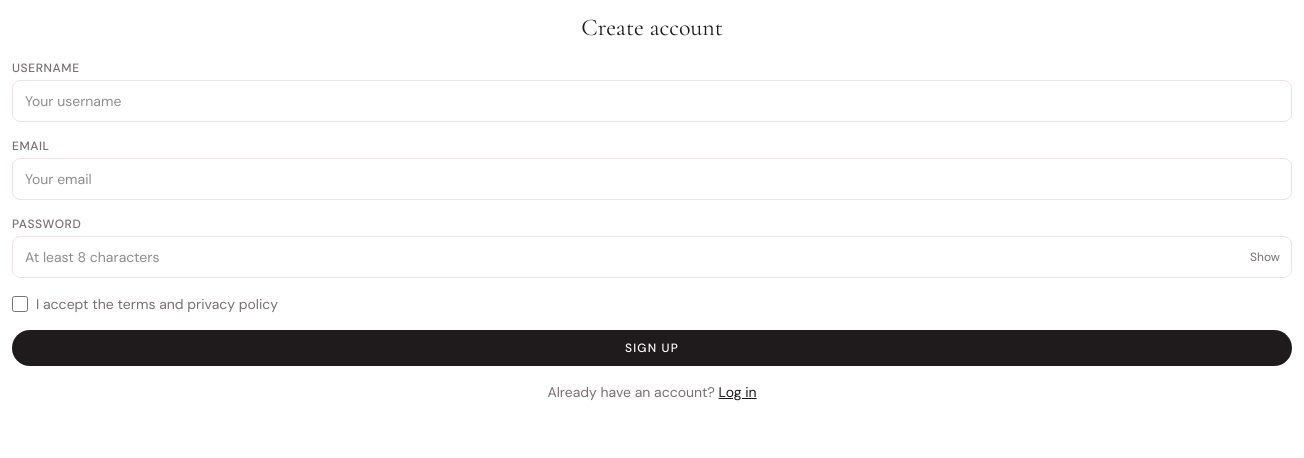
it: RegisterView › shows duplicate-field errors from a 409
In the field with id "username": (652, 101) [12, 80, 1292, 122], type "mina"
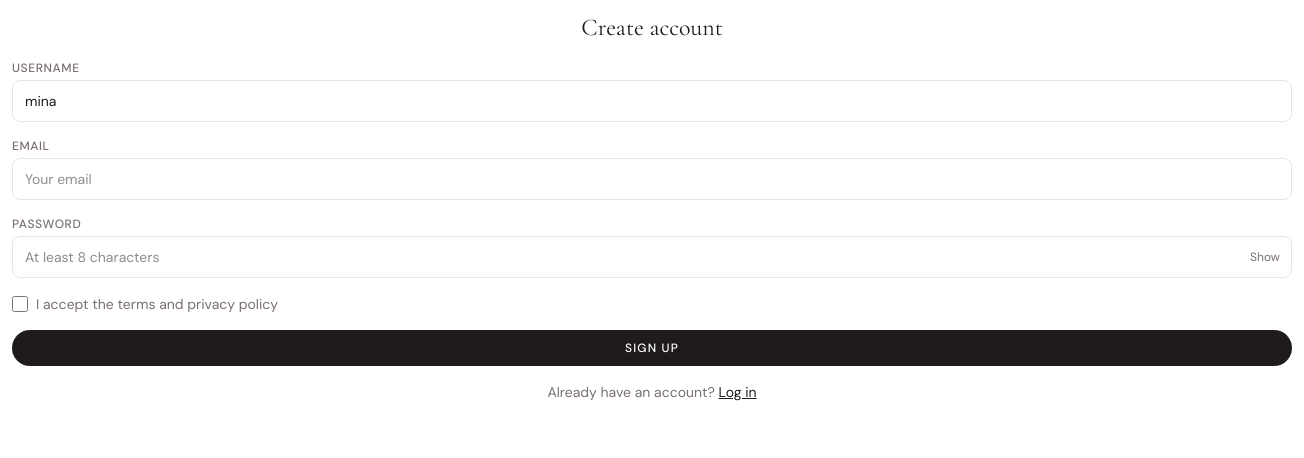
In the field with id "email": (652, 179) [12, 158, 1292, 200], type "mina@example.com"
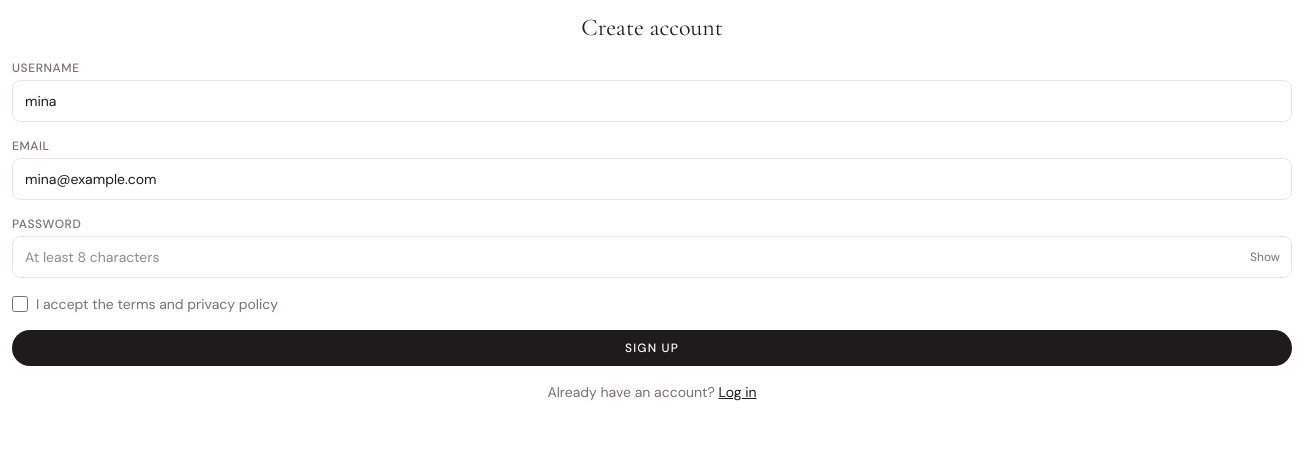
In the password field labelled "Password": (652, 257) [12, 236, 1292, 278], type "password1"
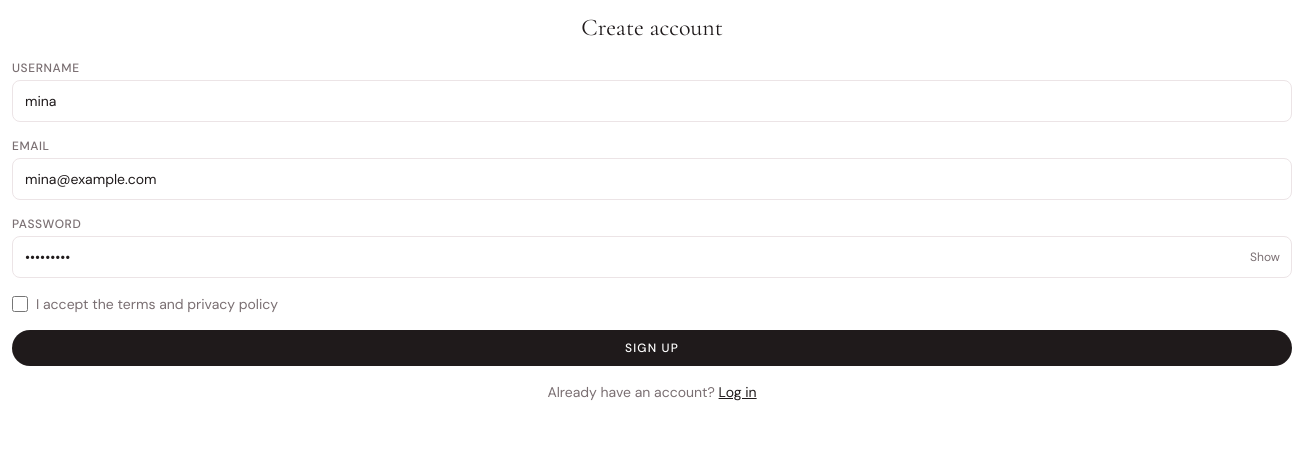
Click the checkbox labelled "I accept the terms and privacy policy": click(20, 304) [12, 296, 28, 312]
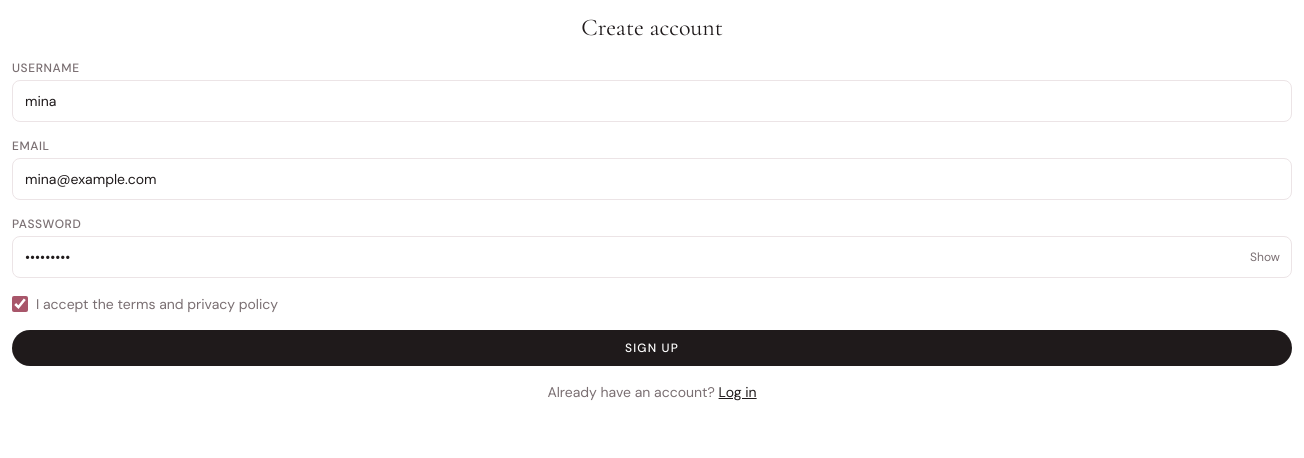
Submit the form
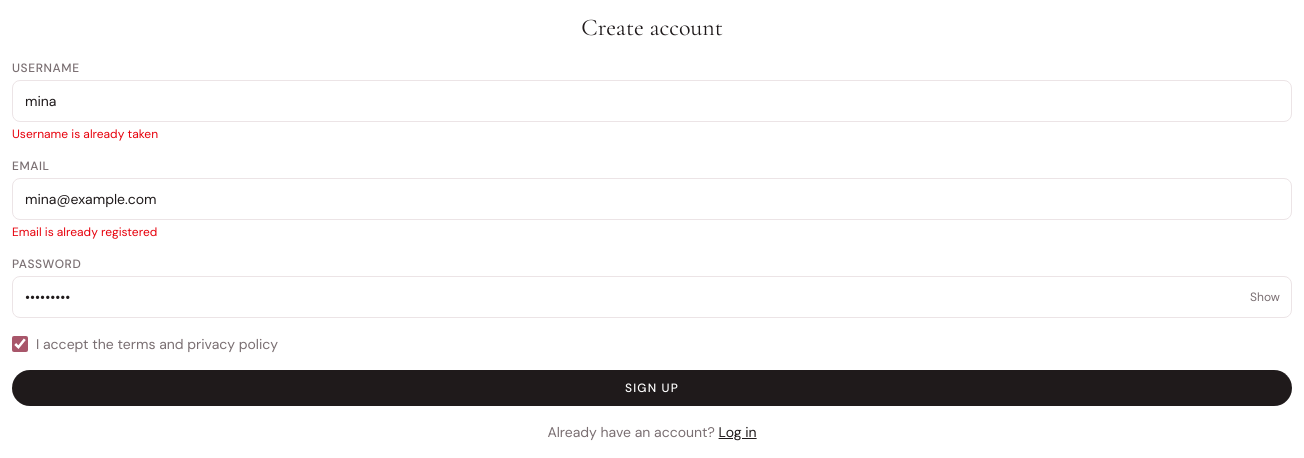
Result: the form shows "Username is already taken" at [12, 126, 158, 142]
Result: the form shows "Email is already registered" at [12, 224, 157, 240]
